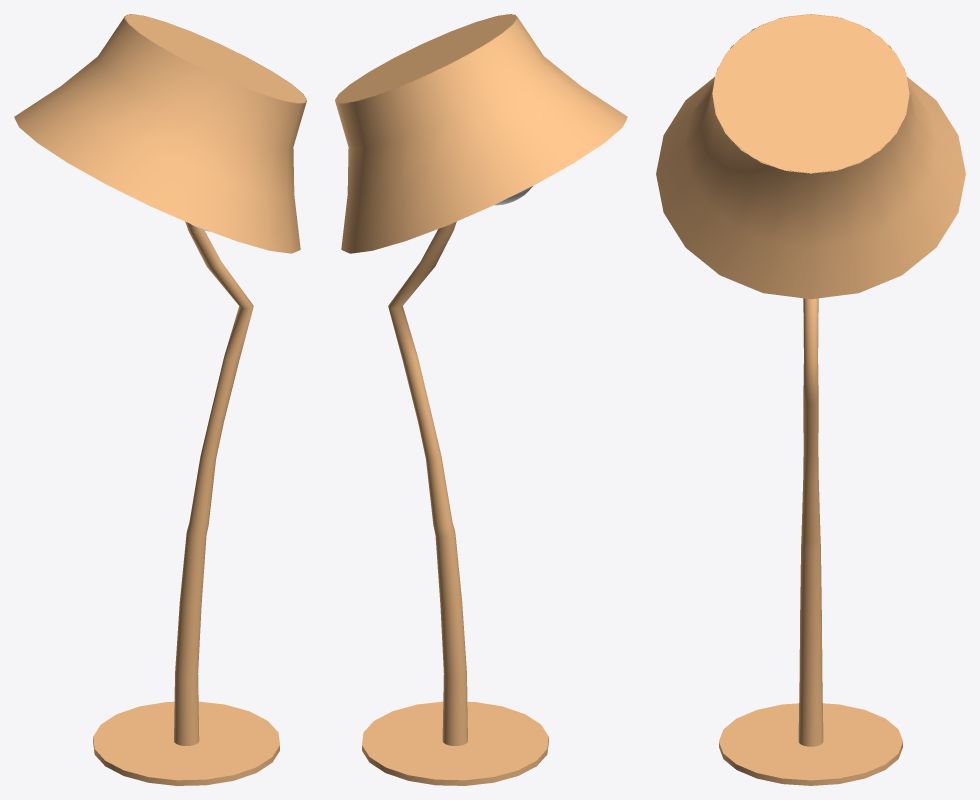
Rendered from lampara.obj.
3 renders of one model, left to right at view 1: azimuth 30°, elevation 25°; view 2: azimuth 150°, elevation 25°; view 3: azimuth 270°, elevation 25°, orthographic.
Parts seen in each view (by area): view 1: pCylinder3; view 2: pCylinder3; view 3: pCylinder3.
Part boxes in pixels (left/top/right/bottom): pCylinder3: left=14, top=14, right=306, bottom=785; pCylinder3: left=335, top=14, right=627, bottom=785; pCylinder3: left=656, top=14, right=965, bottom=785.
Bounding box in the file's own units: 1.56 × 4.27 × 1.68.
Materials: 2 (2 with a texture image).
